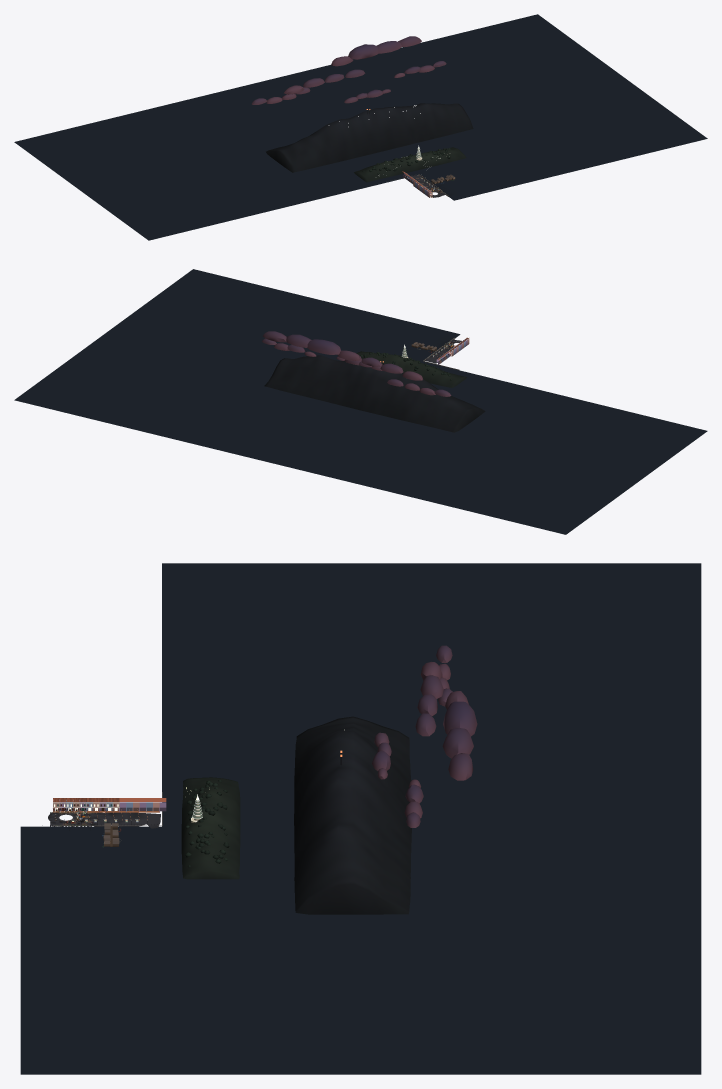
The model's file is arena_penang.glb.
3 views of the same model, one above another, from view 1: azimuth 30°, elevation 25°; view 2: azimuth 150°, elevation 25°; view 3: azimuth 270°, elevation 25° (orthographic). The views are drawn at different scales.
Visible parts, largest first — view 1: EnvFar_MatWater_sea, EnvFar_MatGround_asphalt, EnvFar_MatPlaster_wall; view 2: EnvFar_MatWater_sea, EnvFar_MatGround_asphalt, EnvFar_MatPlaster_wall; view 3: EnvFar_MatWater_sea, EnvFar_MatGround_asphalt, EnvFar_MatPlaster_wall.
Part boxes in pixels (<box>): EnvFar_MatWater_sea: <box>14,14,707,240</box>; EnvFar_MatGround_asphalt: <box>266,103,473,187</box>; EnvFar_MatPlaster_wall: <box>252,36,455,188</box>; EnvFar_MatWater_sea: <box>14,269,707,534</box>; EnvFar_MatGround_asphalt: <box>264,349,485,432</box>; EnvFar_MatPlaster_wall: <box>262,331,459,396</box>; EnvFar_MatWater_sea: <box>20,563,701,1074</box>; EnvFar_MatGround_asphalt: <box>96,716,411,914</box>; EnvFar_MatPlaster_wall: <box>99,645,477,847</box>.
Size of the model in its own units: 800 by 104 by 450.
